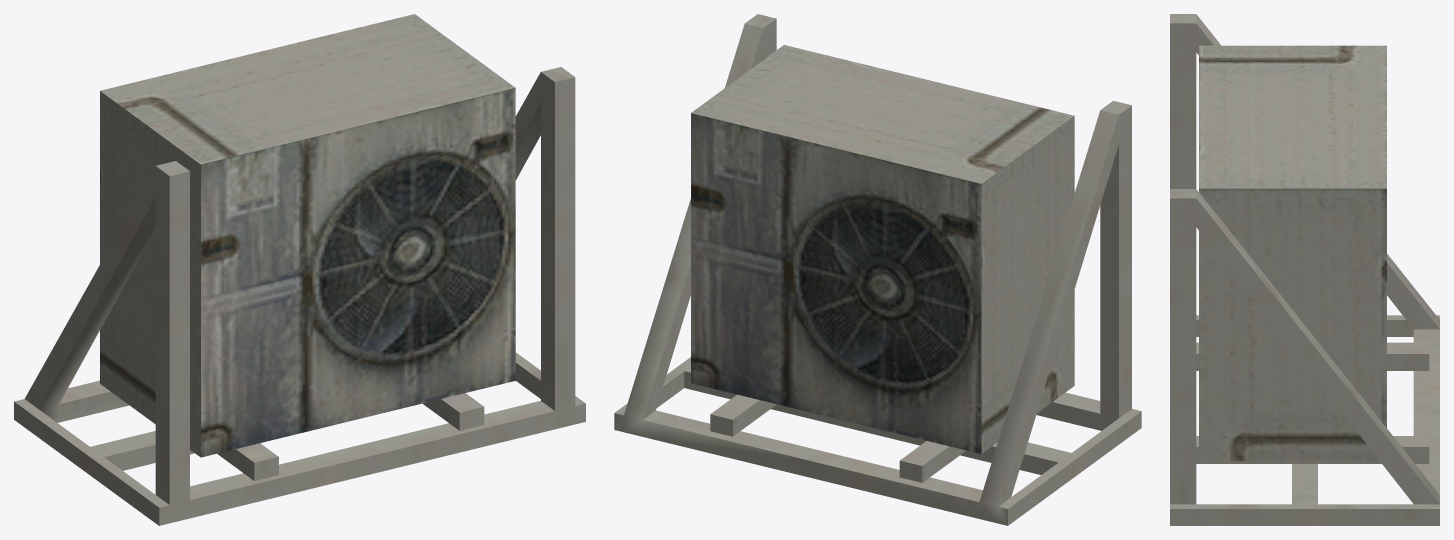
The model's file is Prop_Aircon02.glb.
3 renders of one model, left to right at view 1: azimuth 30°, elevation 25°; view 2: azimuth 150°, elevation 25°; view 3: azimuth 270°, elevation 25°, orthographic. The views are drawn at different scales.
Parts seen in each view (by area): view 1: xinshou_aircon02; view 2: xinshou_aircon02; view 3: xinshou_aircon02.
Boxes of the visible parts, x1,y1,x2,y2 form: xinshou_aircon02: (14, 14, 585, 525); xinshou_aircon02: (614, 14, 1141, 525); xinshou_aircon02: (1170, 14, 1439, 525).
Bounding box in the file's own units: 2.6 × 2.02 × 1.53.
Materials: 1 (1 with a texture image).
